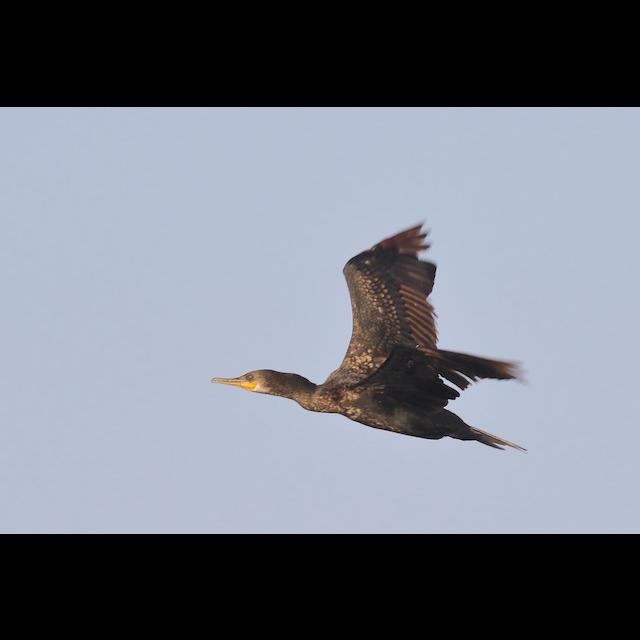cormorant: (213, 222, 535, 453)
